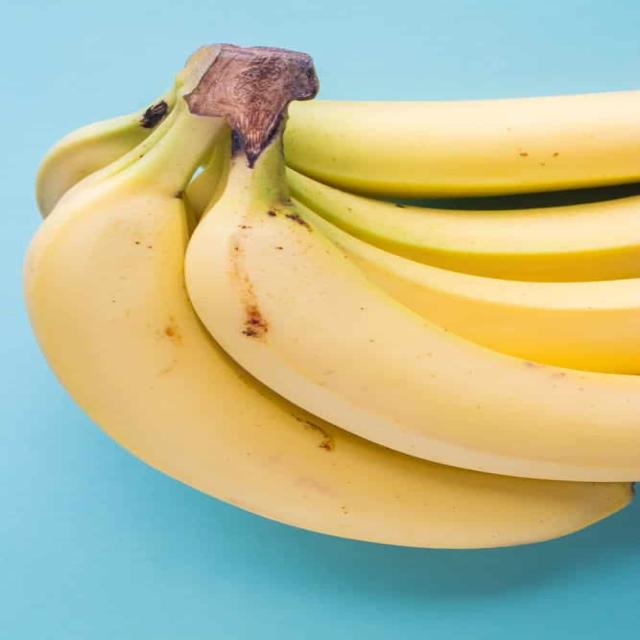unpeal banana: (25, 101, 631, 547), (186, 115, 639, 481), (296, 202, 639, 374), (287, 169, 639, 281), (285, 91, 639, 198), (36, 72, 184, 216), (36, 90, 174, 216)
